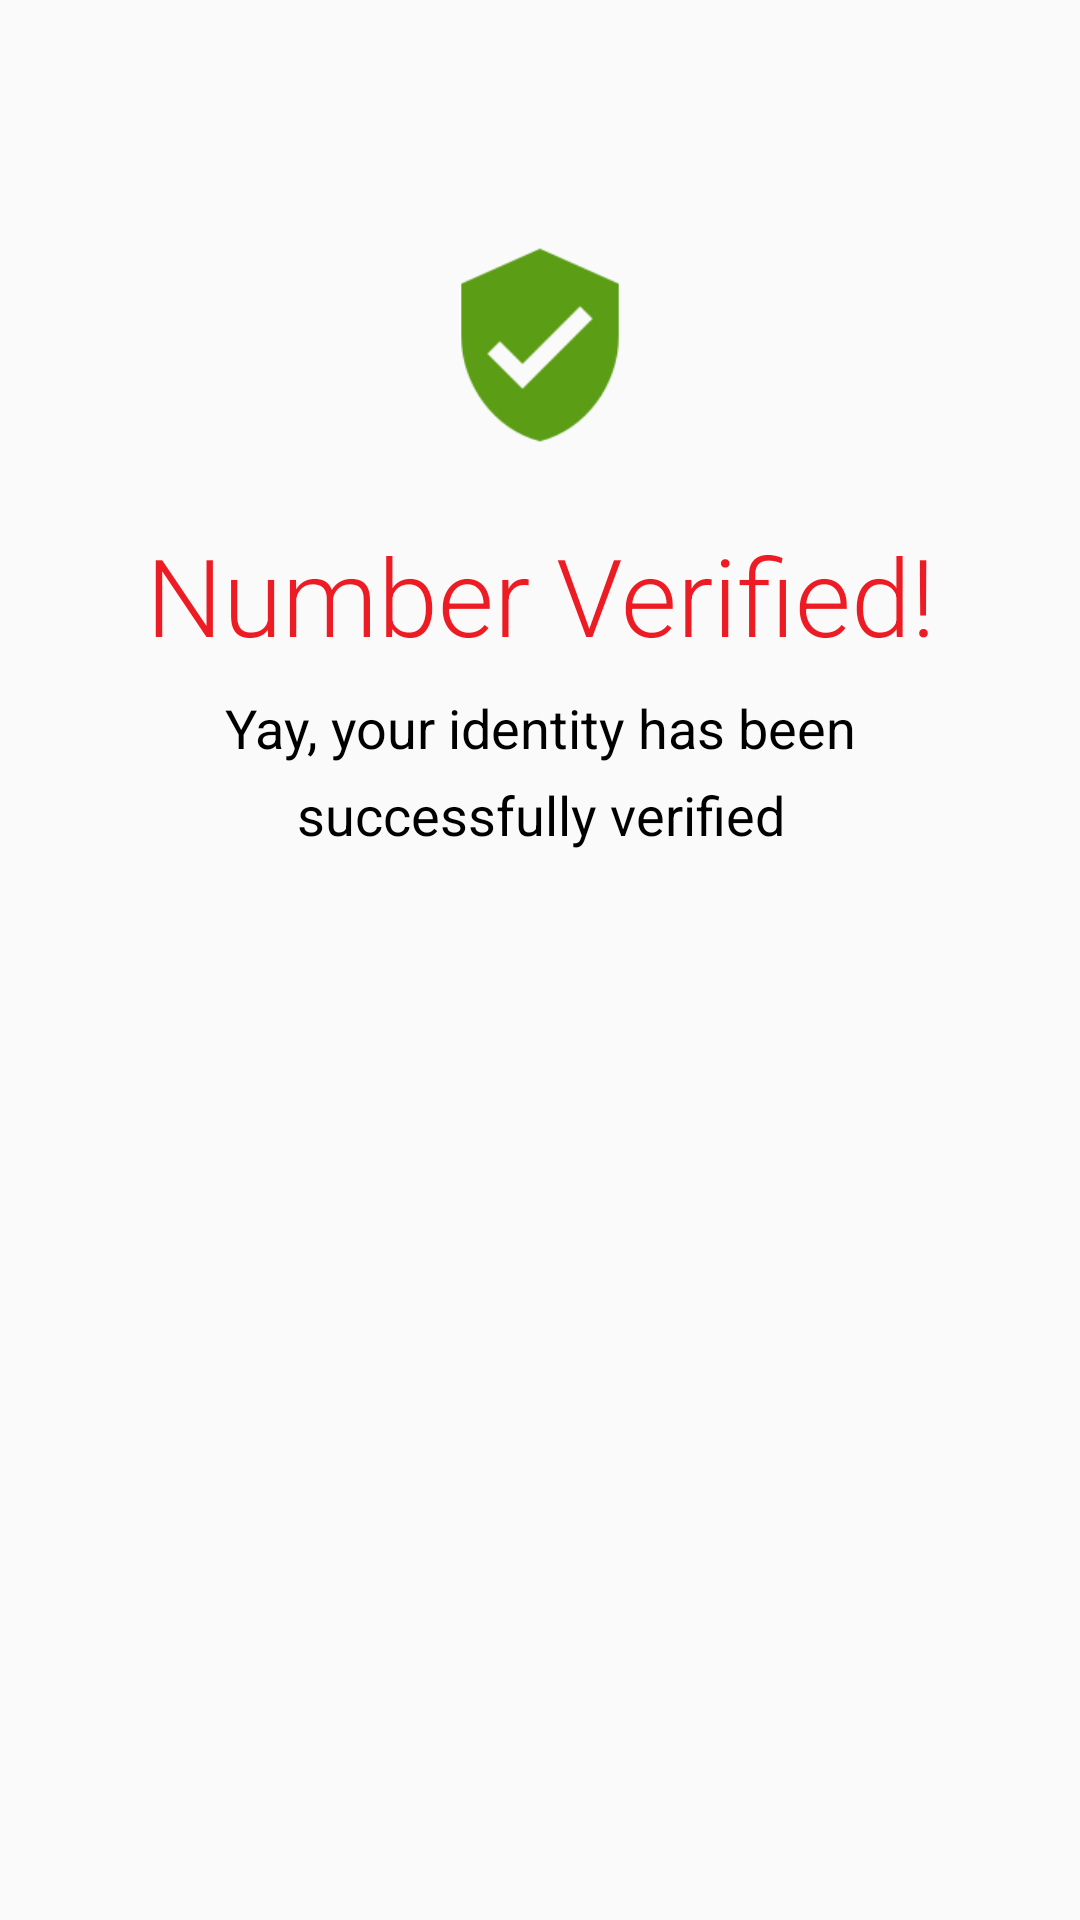

Icon click points for this 1080×1920 phone screenshot, format point (x, y):
verified user: point (540, 345)
